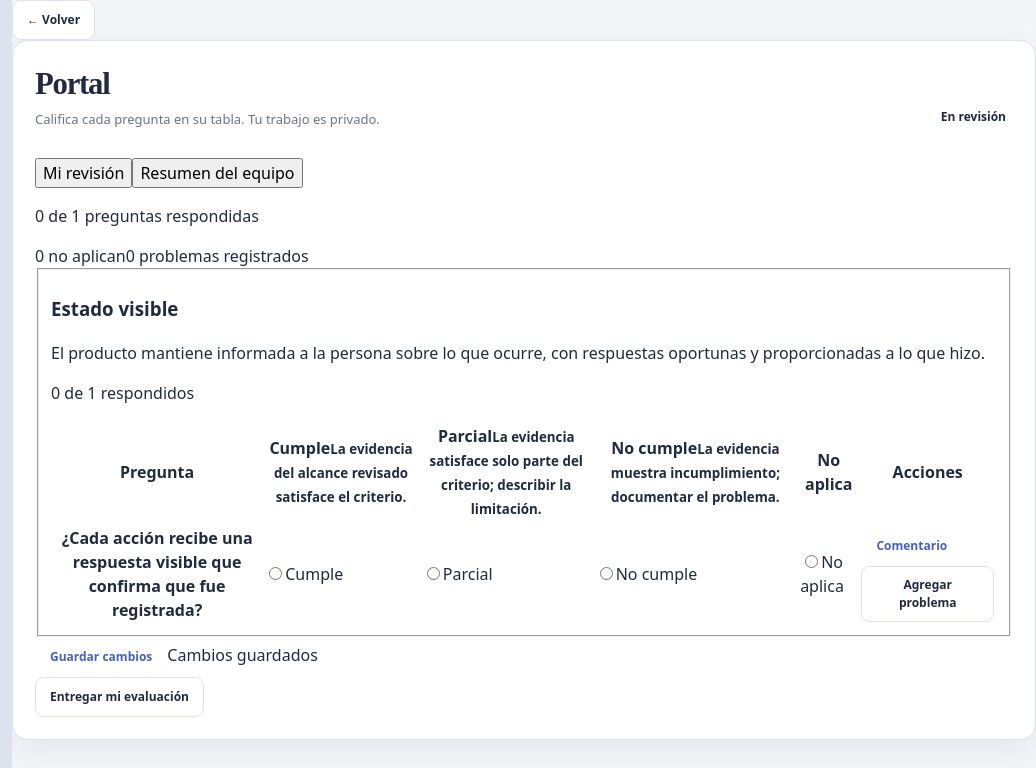
flujo individual › mensaje al entregar › si falla la entrega no hay aviso de éxito
Click the radio button labelled "Cumple". click: click(276, 574)
box: 269,568 -> 282,580
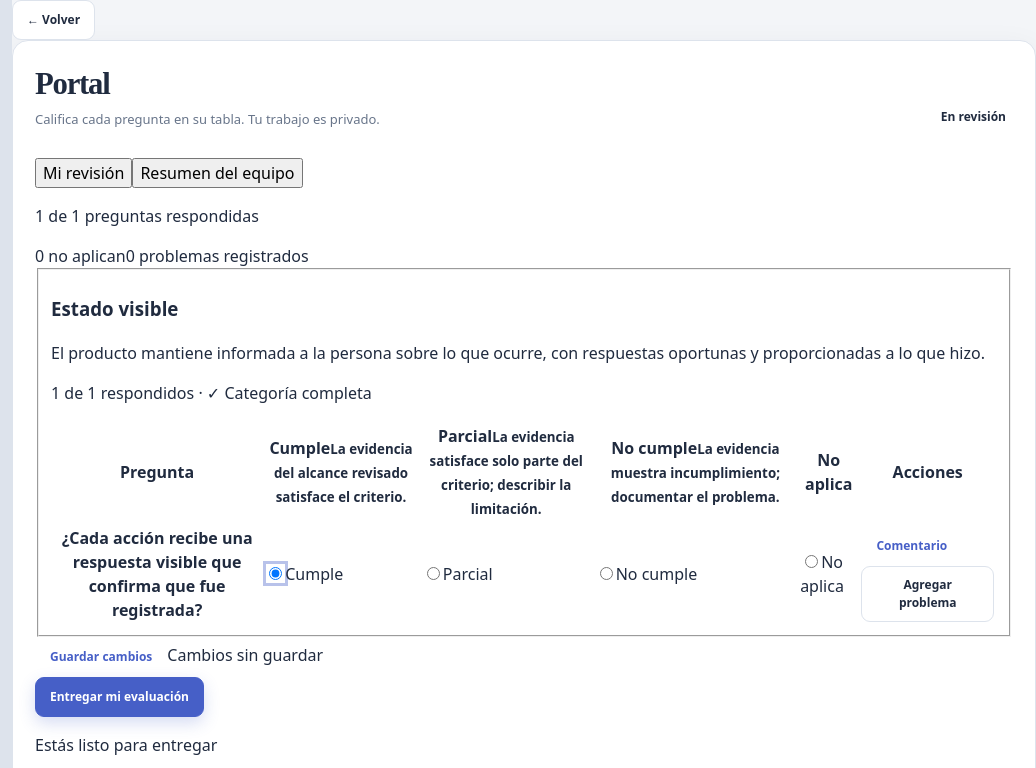
Click the button "Entregar mi evaluación". click: click(120, 698)
box: 35,678 -> 204,718
(page scrolled)
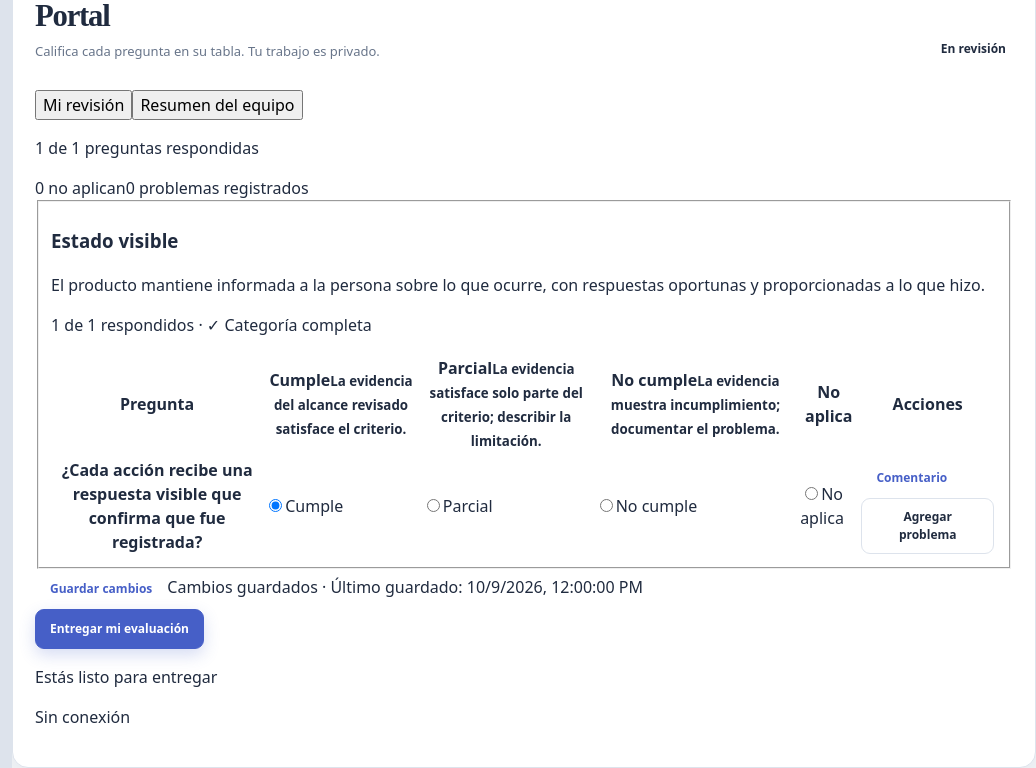
Now the text "Sin conexión" is shown, box 35,706 -> 130,728
